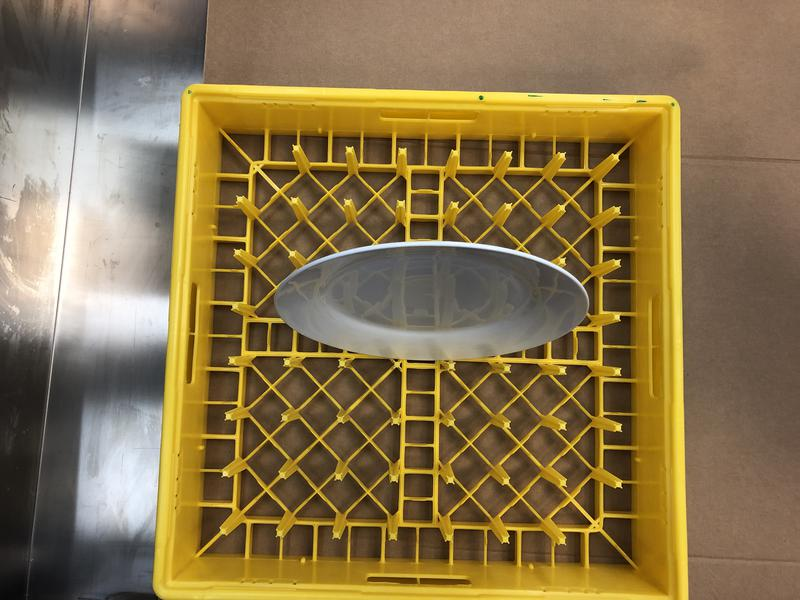Dish: (272, 239, 591, 362)
